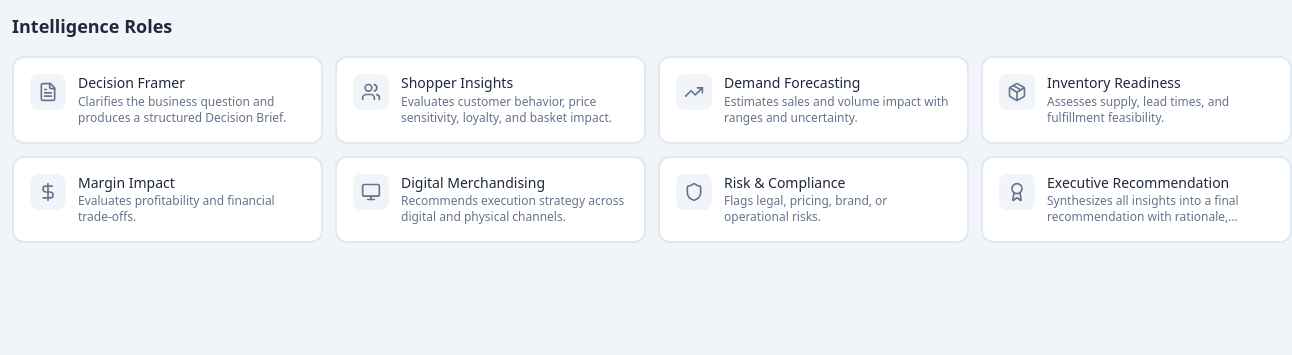
IntelligenceGrid › hover expansion behavior › shows workflow order badge on hover
The width and height of the screenshot is (1292, 355).
expect the text "Decision Framer" is shown: met, box [78, 73, 185, 92]
Hover over the text "Decision Framer".
mouse_move(168, 100)  # box [12, 56, 323, 144]
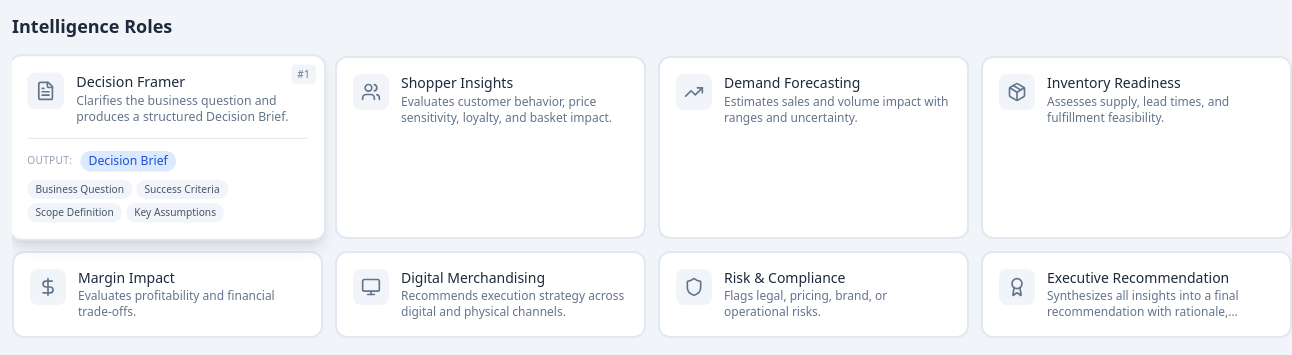
expect the text "#1" is shown: met, box [291, 64, 316, 84]
